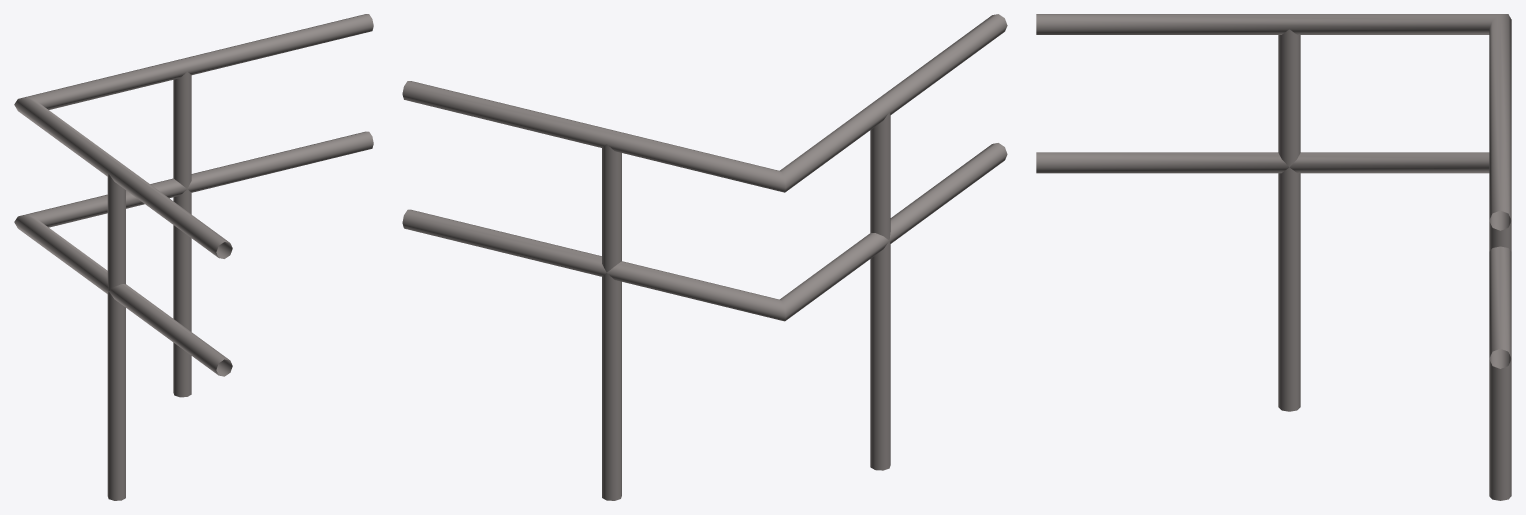
File: SM_Railing_Angle_01.fbx
3 renders of one model, left to right at view 1: azimuth 30°, elevation 25°; view 2: azimuth 150°, elevation 25°; view 3: azimuth 270°, elevation 25°, orthographic. The views are drawn at different scales.
Parts seen in each view (by area): view 1: SM_Railing_Angle_01; view 2: SM_Railing_Angle_01; view 3: SM_Railing_Angle_01.
Boxes of the visible parts, bbox=[...] form: SM_Railing_Angle_01: bbox=[14, 14, 373, 500]; SM_Railing_Angle_01: bbox=[402, 14, 1007, 500]; SM_Railing_Angle_01: bbox=[1036, 14, 1511, 500].
Size of the model in its own units: 113 by 103 by 113.
